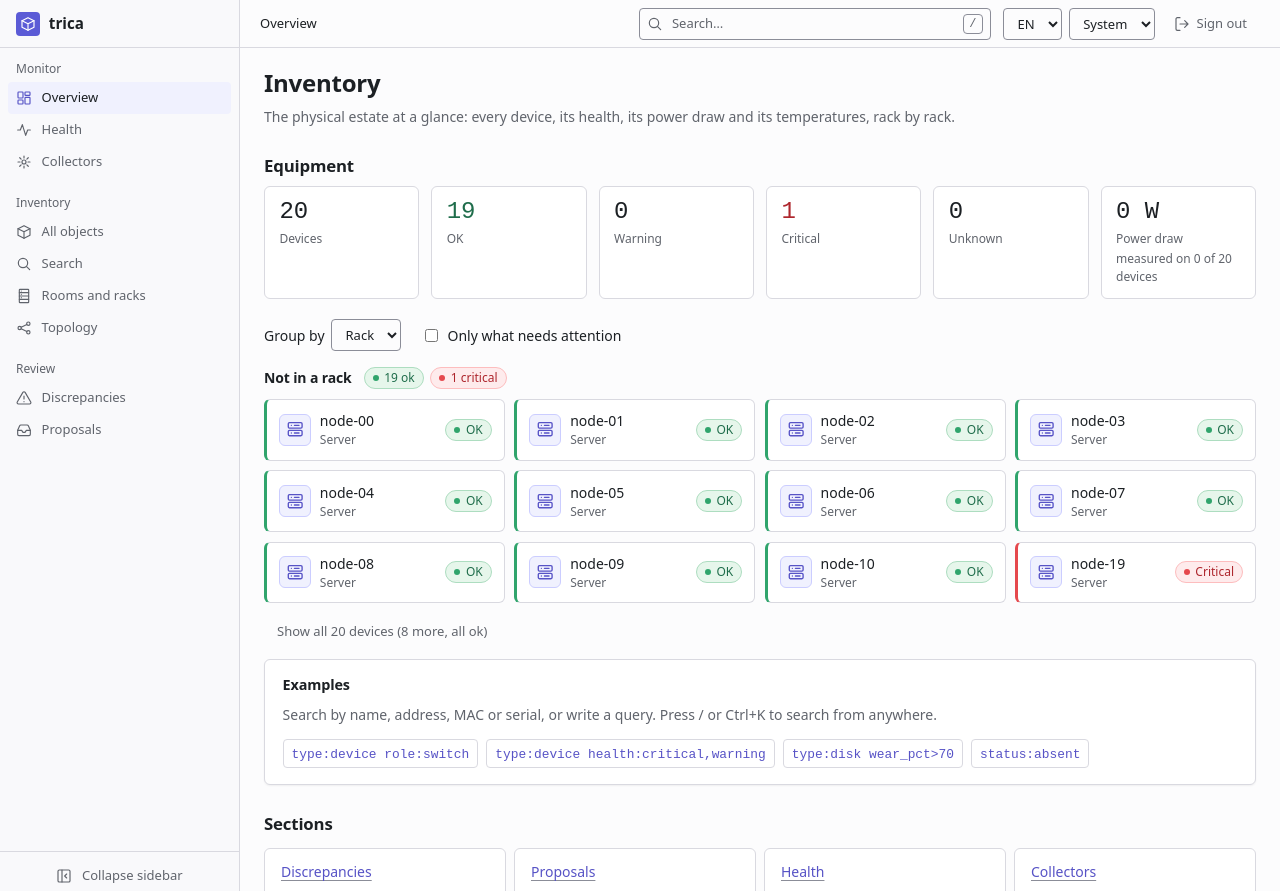
Test: the overview: the physical estate at a glance › folds the healthy devices of a large group, and unfolds them on request
The width and height of the screenshot is (1280, 891).
Expected: the link "node-19" is shown, top-left (1071, 554), bottom-right (1125, 573)
Click the button "Show all 20 devices (8 more, all ok)" at (382, 631), box top-left (264, 615), bottom-right (500, 647)
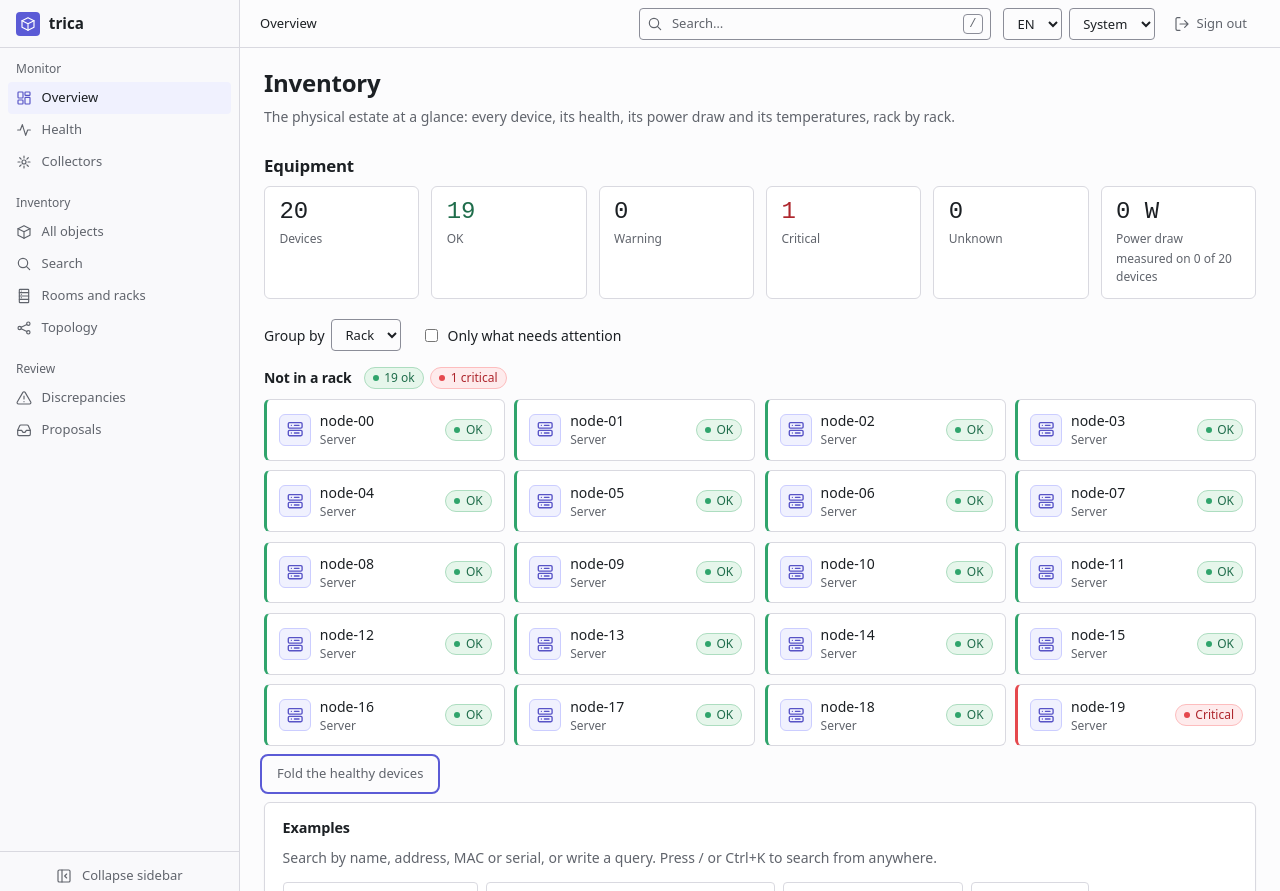
Expected: the number of list items with class "tile" is 20
Expected: the button "Fold the healthy devices" is expanded, top-left (264, 758), bottom-right (436, 790)
